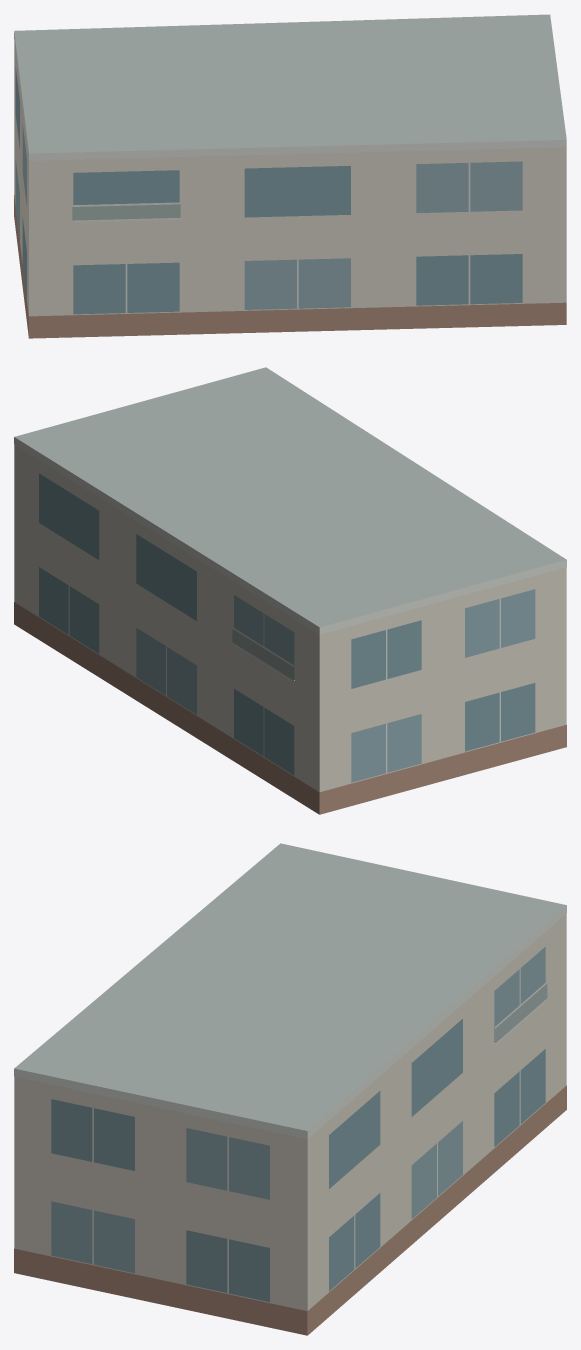
File: survey-upis-32893925.glb
3 renders of one model, top to bottom at view 1: azimuth 30°, elevation 25°; view 2: azimuth 150°, elevation 25°; view 3: azimuth 270°, elevation 25°, orthographic. The views are drawn at different scales.
Parts seen in each view (by area): view 1: survey-upis-32893925.tmp; view 2: survey-upis-32893925.tmp; view 3: survey-upis-32893925.tmp.
Boxes of the visible parts, x1,y1,x2,y2 form: survey-upis-32893925.tmp: (14, 14, 566, 338); survey-upis-32893925.tmp: (14, 367, 566, 814); survey-upis-32893925.tmp: (14, 843, 566, 1335).
Size of the model in its own units: 18.42 by 6.1 by 14.95.
